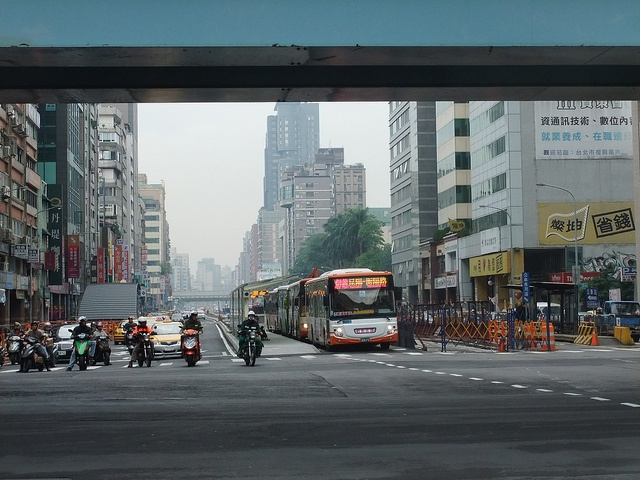non-vehicle: (177, 326, 203, 367), (88, 328, 114, 366), (19, 336, 46, 372), (70, 332, 94, 370), (2, 326, 25, 365), (237, 330, 261, 365), (136, 330, 158, 368), (122, 325, 133, 347)
